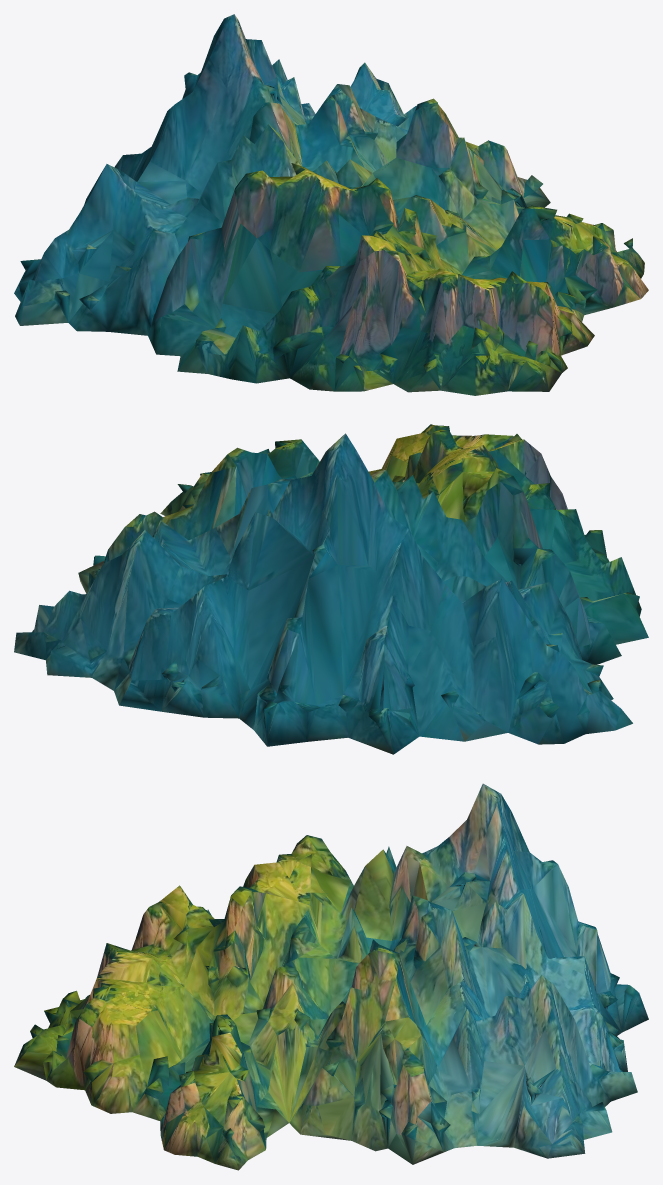
The model's file is forestHill.glb.
3 views of the same model, one above another, from view 1: azimuth 30°, elevation 25°; view 2: azimuth 150°, elevation 25°; view 3: azimuth 270°, elevation 25° (orthographic). The views are drawn at different scales.
Visible parts, largest first — view 1: MountainMesh.001; view 2: MountainMesh.001; view 3: MountainMesh.001.
Boxes of the visible parts, left/top/right/bottom form: MountainMesh.001: left=14, top=14, right=648, bottom=395; MountainMesh.001: left=14, top=424, right=648, bottom=754; MountainMesh.001: left=14, top=783, right=648, bottom=1170.
Size of the model in its own units: 2 by 0.84 by 2.
Materials: 1 (1 with a texture image).
